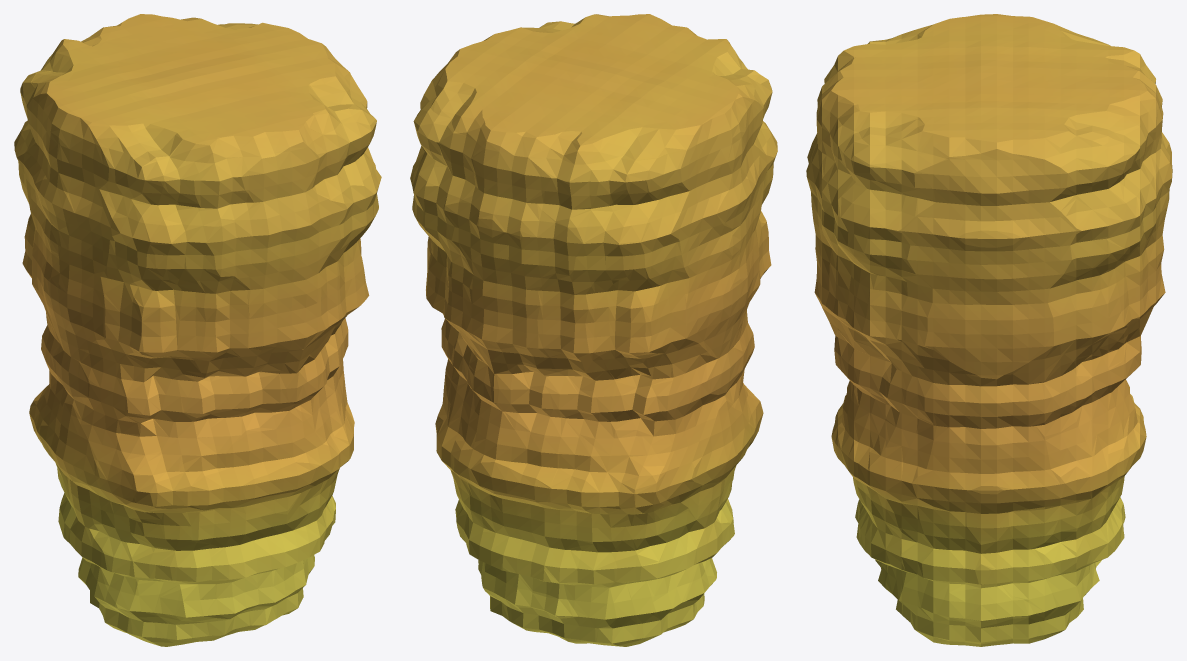
3 renders of one model, left to right at view 1: azimuth 30°, elevation 25°; view 2: azimuth 150°, elevation 25°; view 3: azimuth 270°, elevation 25°, orthographic.
Visible parts, largest first — view 1: geometry_0; view 2: geometry_0; view 3: geometry_0.
Part boxes in pixels (x1,y1,x2,y2): geometry_0: (14,14,381,646); geometry_0: (410,14,777,646); geometry_0: (806,14,1172,646).
Size of the model in its own units: 0.9225 by 1.6 by 0.9805.
